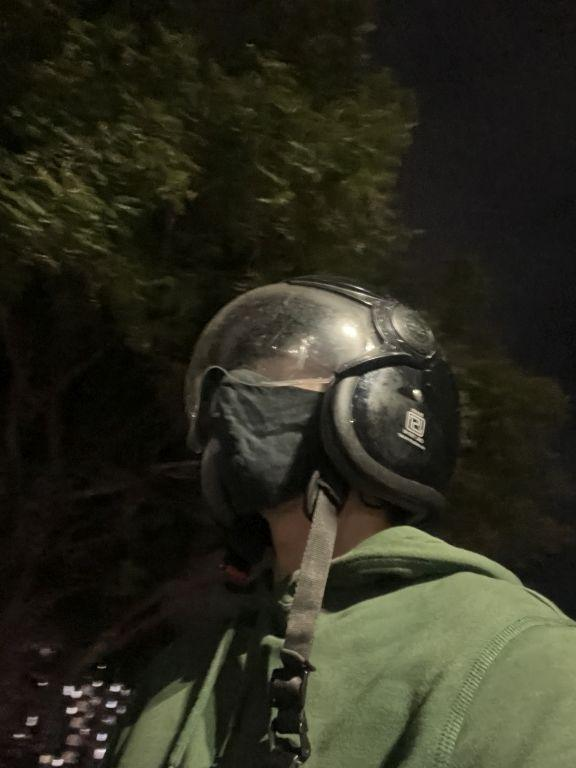helmet: (170, 259, 477, 585)
